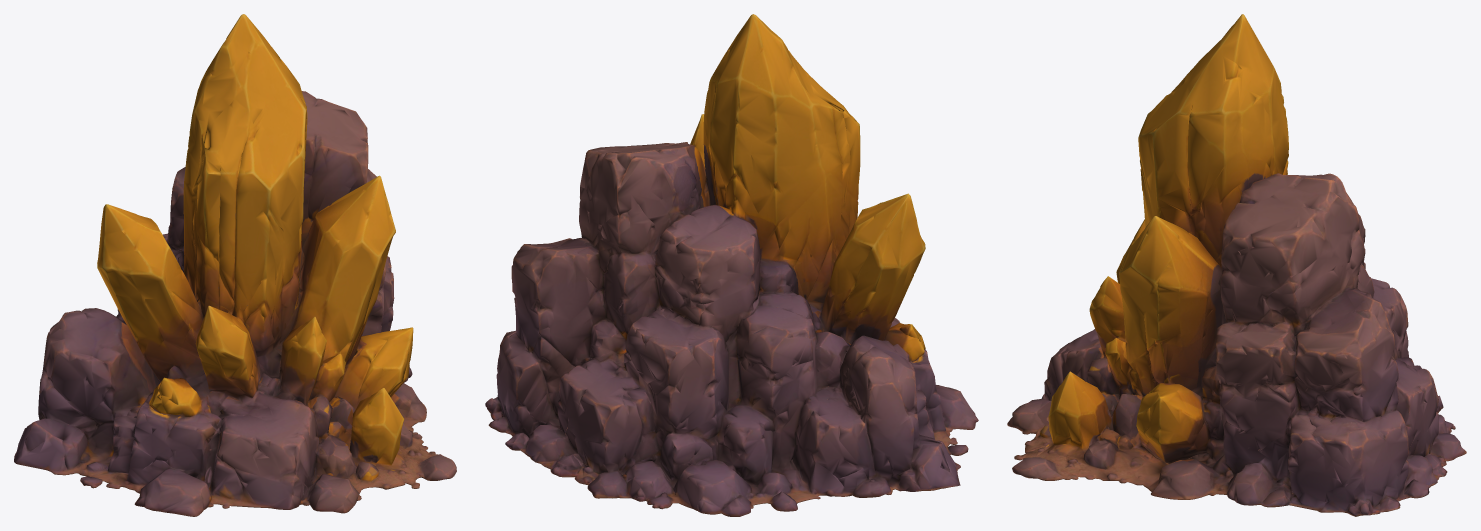
The model's file is cristal_de_oro_alicanto.glb.
3 renders of one model, left to right at view 1: azimuth 30°, elevation 25°; view 2: azimuth 150°, elevation 25°; view 3: azimuth 270°, elevation 25°, orthographic.
Parts seen in each view (by area): view 1: cristal_de_oro_alicanto; view 2: cristal_de_oro_alicanto; view 3: cristal_de_oro_alicanto.
Boxes of the visible parts, left/top/right/bottom form: cristal_de_oro_alicanto: left=14, top=14, right=456, bottom=516; cristal_de_oro_alicanto: left=485, top=14, right=978, bottom=516; cristal_de_oro_alicanto: left=1007, top=14, right=1466, bottom=516.
Size of what is drawn, in the model's own units: 2.67 by 2.5 by 2.49.
Materials: 1 (1 with a texture image).
